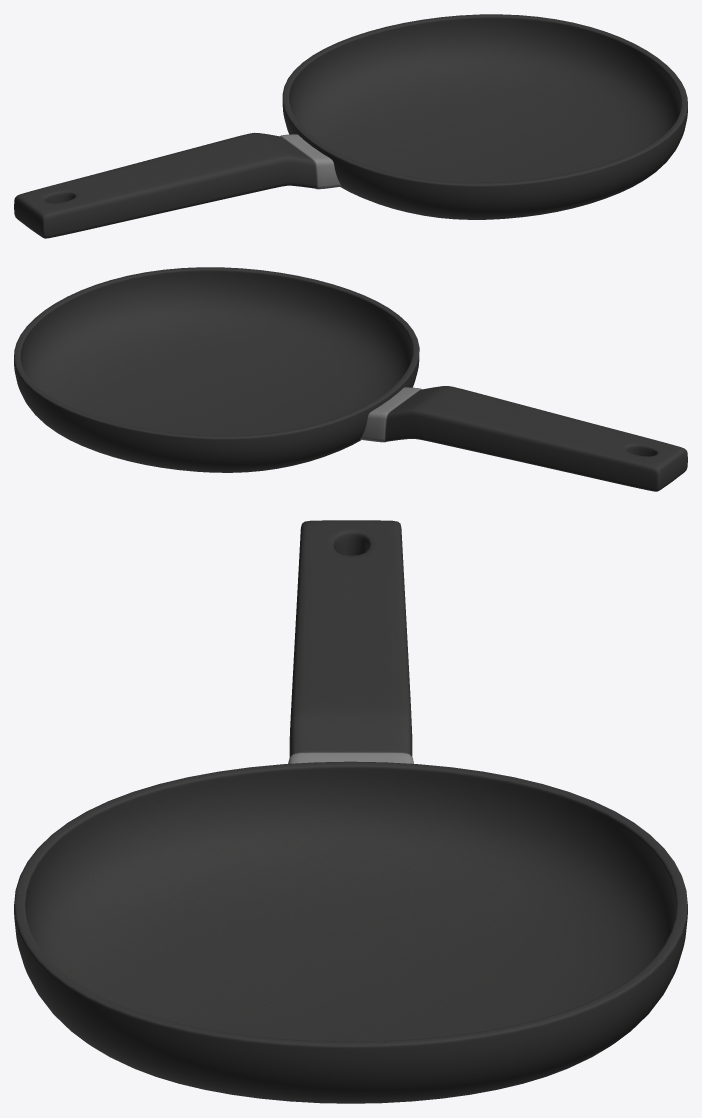
File: Frying_Pan.obj
3 views of the same model, one above another, from view 1: azimuth 30°, elevation 25°; view 2: azimuth 150°, elevation 25°; view 3: azimuth 270°, elevation 25° (orthographic). The views are drawn at different scales.
Parts seen in each view (by area): view 1: Frying_Pan; view 2: Frying_Pan; view 3: Frying_Pan.
Part boxes in pixels (left/top/right/bottom): Frying_Pan: left=14, top=14, right=687, bottom=238; Frying_Pan: left=14, top=267, right=687, bottom=491; Frying_Pan: left=14, top=520, right=687, bottom=1103.
Bounding box in the file's own units: 53.84 × 5.74 × 29.57.
1 material, 1 textured.
